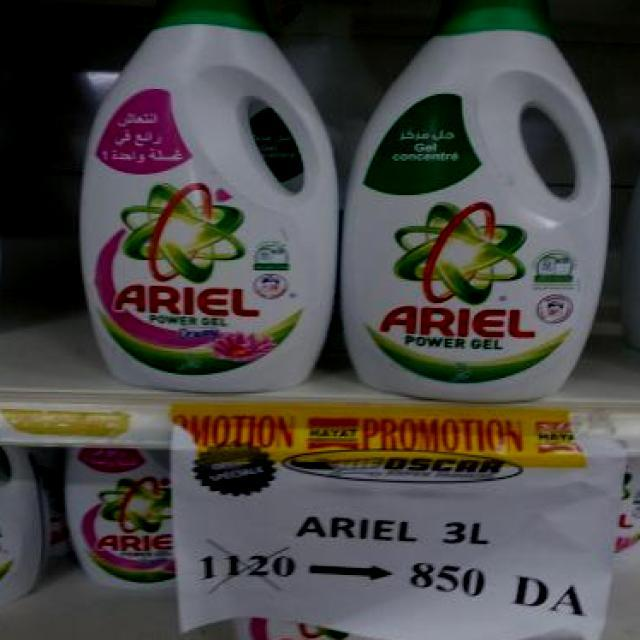Detergent: (340, 0, 619, 400), (82, 0, 337, 394)
